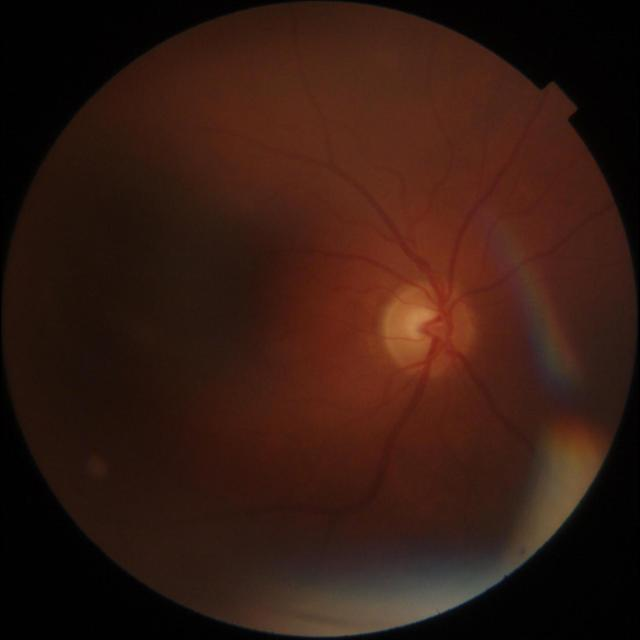OC: (410, 309, 440, 340)
OD: (383, 283, 474, 378)
